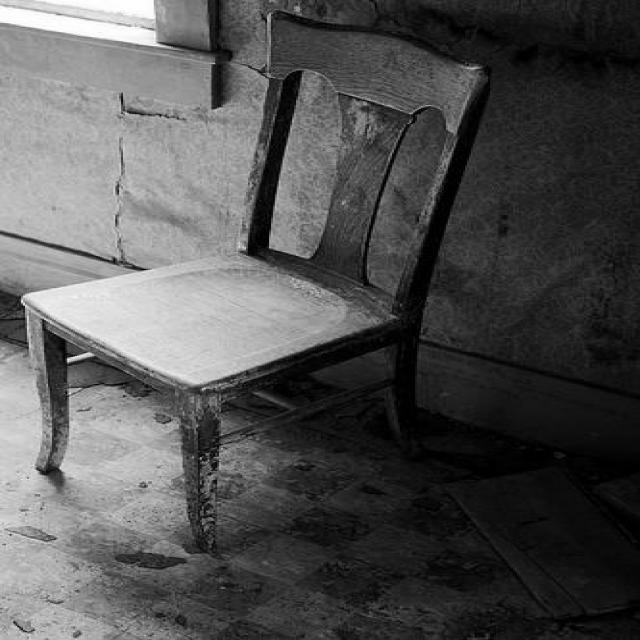chair: (19, 9, 497, 546)
